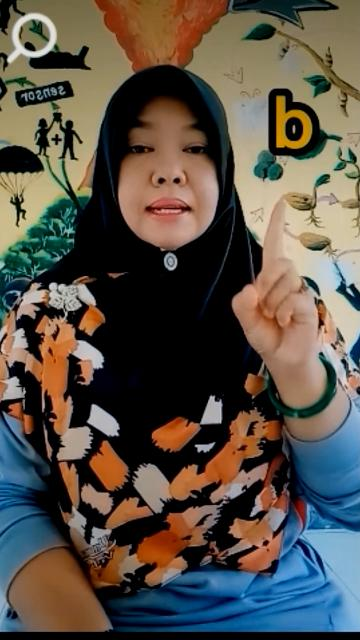D: (230, 195, 320, 382)
